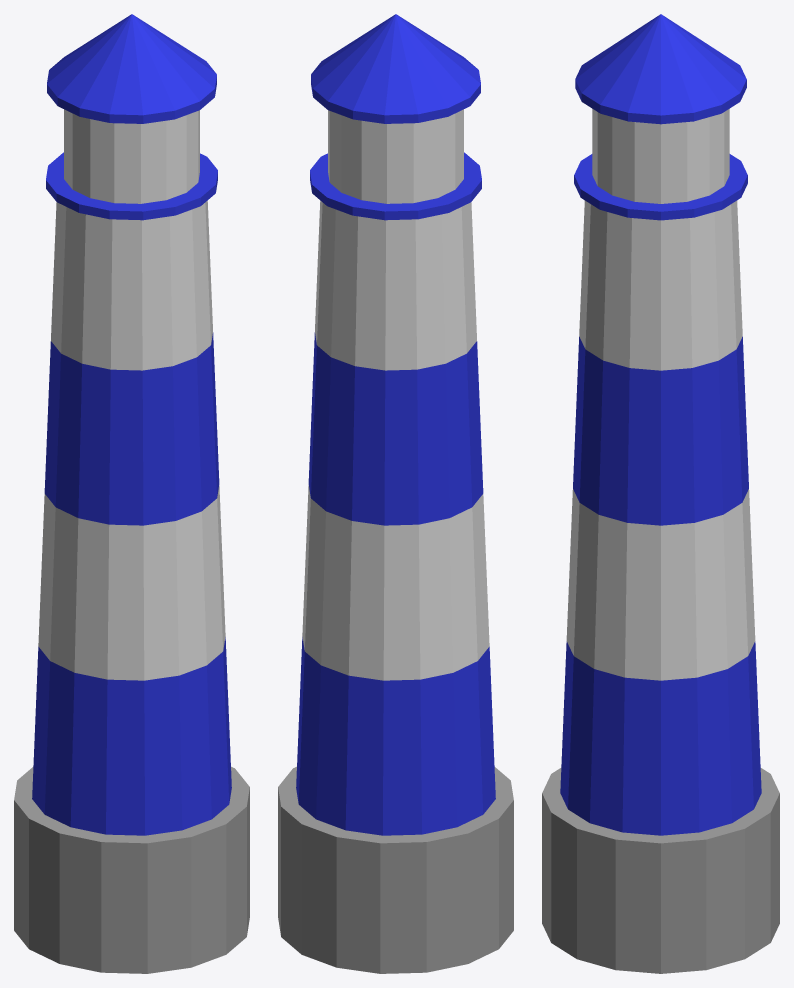
File: Lighthouse.fbx
3 renders of one model, left to right at view 1: azimuth 30°, elevation 25°; view 2: azimuth 150°, elevation 25°; view 3: azimuth 270°, elevation 25°, orthographic.
Visible parts, largest first — view 1: Lighthouse; view 2: Lighthouse; view 3: Lighthouse.
Boxes of the visible parts, x1,y1,x2,y2 form: Lighthouse: (14, 14, 249, 973); Lighthouse: (278, 14, 513, 973); Lighthouse: (542, 14, 779, 973).
Size of the model in its own units: 133 by 560 by 133.
